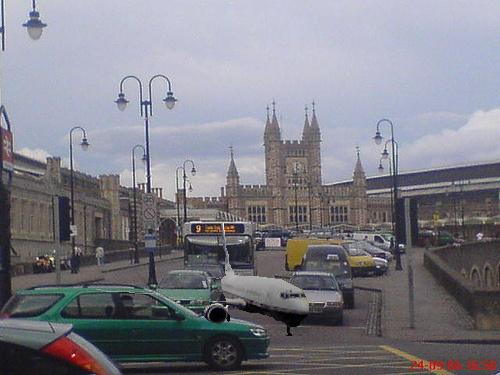tampered: (97, 223, 309, 336)
